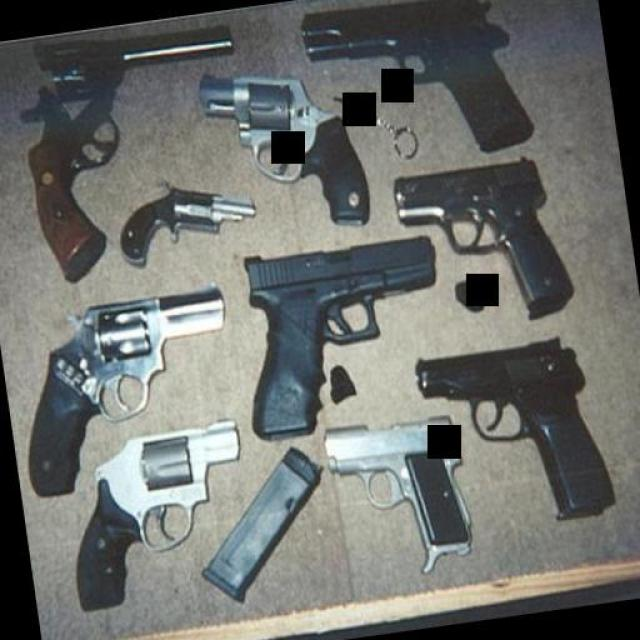gun: (0, 21, 261, 288), (4, 287, 248, 498), (224, 230, 456, 439), (410, 329, 616, 535), (294, 0, 536, 175), (51, 418, 260, 612), (195, 51, 374, 244), (390, 150, 575, 336), (318, 409, 477, 580), (109, 168, 262, 270)
